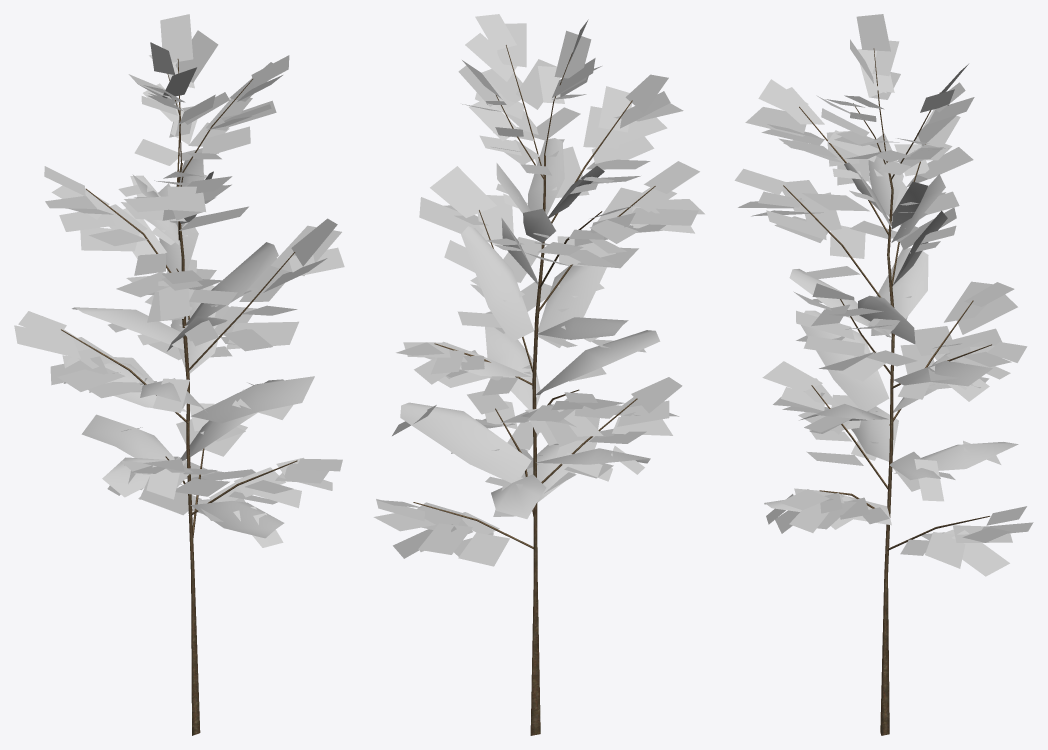
File: Tree_Small2_LOD3.fbx
3 views of the same model, side by side, from view 1: azimuth 30°, elevation 25°; view 2: azimuth 150°, elevation 25°; view 3: azimuth 270°, elevation 25° (orthographic). The views are drawn at different scales.
Parts seen in each view (by area): view 1: polySurface18; view 2: polySurface18; view 3: polySurface18.
Part boxes in pixels (box(x1,y1,x2,y2)): polySurface18: box(14, 14, 344, 735); polySurface18: box(373, 14, 704, 735); polySurface18: box(734, 14, 1033, 735).
Size of the model in its own units: 177 by 453 by 176.
